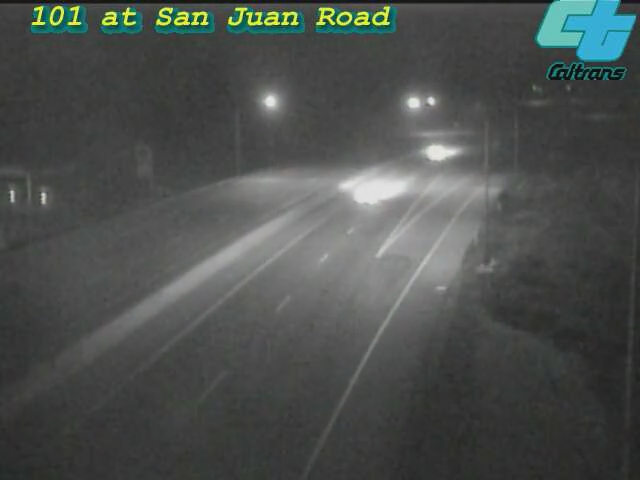vehicle: (394, 112, 474, 192), (327, 158, 407, 238)
